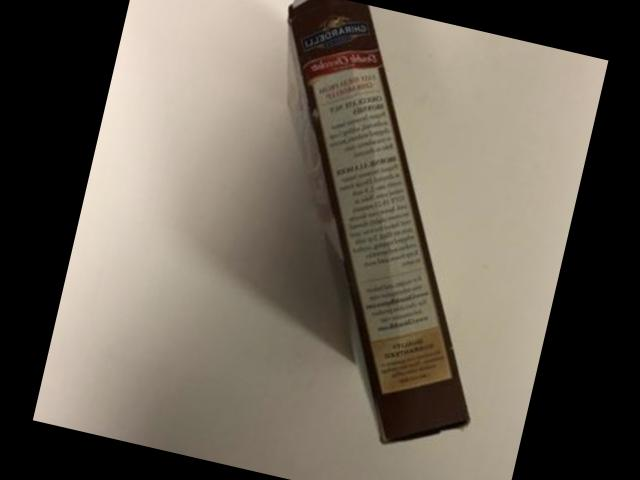cardboard paper: (286, 0, 466, 439)
